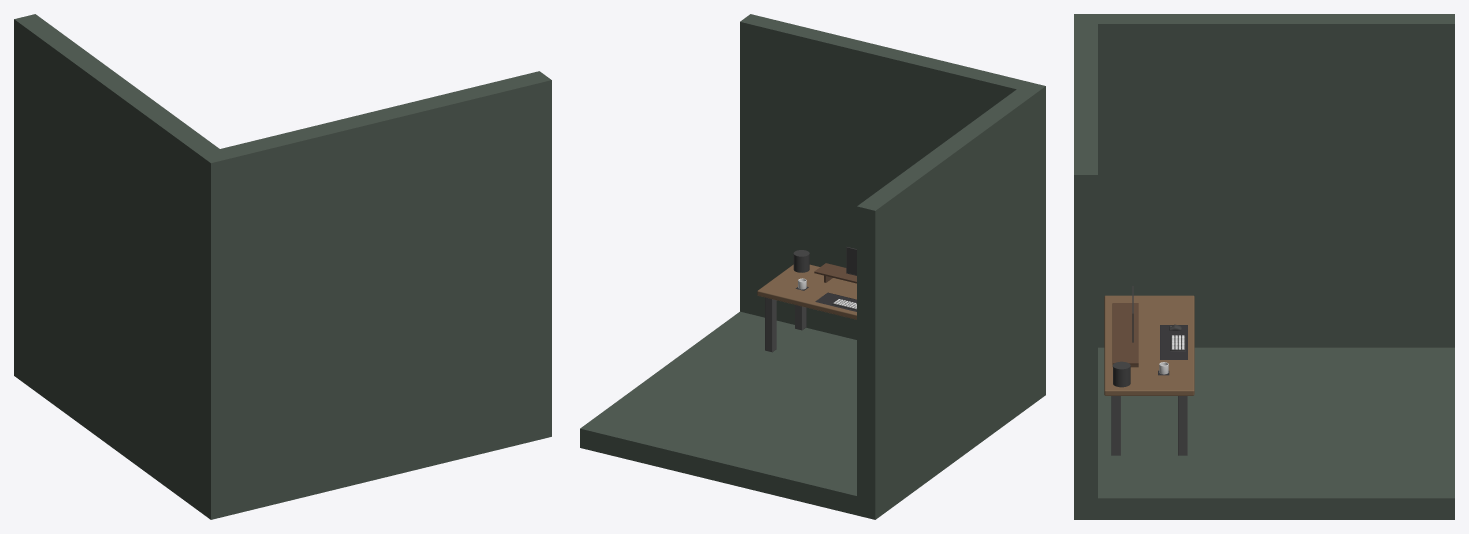
The model's file is room-export.glb.
The picture shows the model from 3 angles, left to right: view 1: azimuth 30°, elevation 25°; view 2: azimuth 150°, elevation 25°; view 3: azimuth 270°, elevation 25°; orthographic projection. The views are drawn at different scales.
Parts seen in each view (by area): view 1: Room; view 2: Room, tabletop, Leg; view 3: Room, tabletop, Desk Shelf, Leg, Desk Mat, Speaker.
Boxes of the visible parts, x1=… form: Room: x1=14, y1=14, x2=551, y2=519; Room: x1=580, y1=14, x2=1045, y2=519; tabletop: x1=757, y1=264, x2=856, y2=319; Leg: x1=765, y1=297, x2=806, y2=352; Room: x1=1074, y1=14, x2=1454, y2=519; tabletop: x1=1104, y1=295, x2=1194, y2=395; Desk Shelf: x1=1112, y1=303, x2=1138, y2=367; Leg: x1=1111, y1=396, x2=1187, y2=455; Desk Mat: x1=1160, y1=325, x2=1187, y2=359; Speaker: x1=1112, y1=361, x2=1130, y2=387.
Size of the model in its own units: 4 by 4 by 4.
